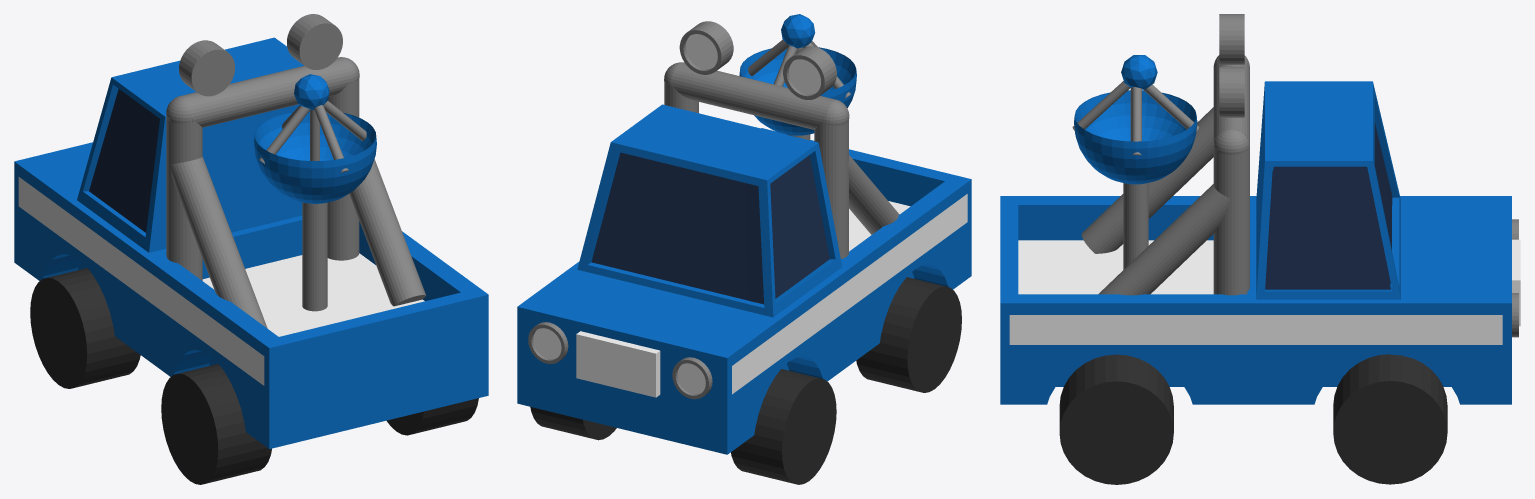
File: sonos.fbx
3 renders of one model, left to right at view 1: azimuth 30°, elevation 25°; view 2: azimuth 150°, elevation 25°; view 3: azimuth 270°, elevation 25°, orthographic. The views are drawn at different scales.
Parts seen in each view (by area): view 1: Cube; view 2: Cube; view 3: Cube.
Part boxes in pixels (x1=…): Cube: x1=14, y1=14, x2=488, y2=484; Cube: x1=517, y1=14, x2=971, y2=484; Cube: x1=1000, y1=14, x2=1520, y2=484.
Size of the model in its own units: 2.37 by 3.28 by 4.1.
